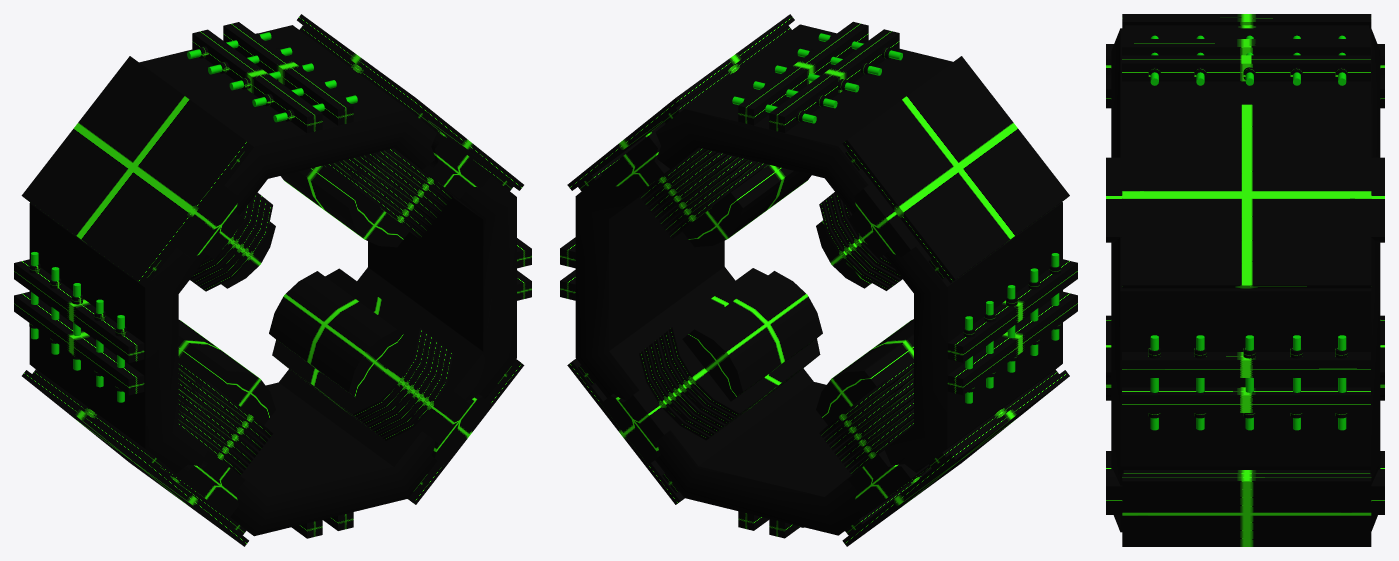
The model's file is MagnetGreenRotate.FBX.
3 renders of one model, left to right at view 1: azimuth 30°, elevation 25°; view 2: azimuth 150°, elevation 25°; view 3: azimuth 270°, elevation 25°, orthographic. The views are drawn at different scales.
Visible parts, largest first — view 1: Torus001, Box046, Box032, Box031, Box016, Box024, Box056, Box052, Box055, Box051, Box040, Box036 (+31 smaller); view 2: Torus001, Box046, Box032, Box031, Box016, Box024, Box056, Box052, Box055, Box051, Box040, Box039 (+31 smaller); view 3: Torus001, Box043, Box033, Box050, Box049, Box052, Box051, Box046, Box037, Box039, Box034, Box048 (+6 smaller).
Part boxes in pixels (x1,y1,x2,y2): Torus001: (29,25,516,536); Box046: (21,56,249,282); Box032: (269,271,409,401); Box031: (272,268,423,417); Box016: (281,165,409,247); Box024: (178,320,275,424); Box056: (14,291,144,395); Box052: (223,22,353,125); Box055: (14,259,144,362); Box051: (192,29,322,133); Box040: (22,370,248,546); Box036: (172,182,244,259); Torus001: (575,24,1062,535); Box046: (842,56,1069,283); Box032: (682,271,822,401); Box031: (668,268,820,416); Box016: (682,164,811,247); Box024: (816,319,913,424); Box056: (947,291,1077,395); Box052: (738,21,868,125); Box055: (947,259,1077,362); Box051: (769,29,899,132); Box040: (842,370,1069,546); Box039: (601,384,678,464); Torus001: (1111,28,1380,532); Box043: (1122,104,1371,288); Box033: (1122,473,1371,546); Box050: (1122,387,1370,412); Box049: (1122,352,1370,377); Box052: (1122,55,1370,81); Box051: (1122,39,1370,55); Box046: (1122,14,1371,28); Box037: (1106,157,1384,242); Box039: (1106,451,1384,514); Box034: (1123,470,1370,473); Box048: (1124,25,1369,28).
Bounding box in the file's own units: 23.89 × 23.87 × 13.19.
3 materials, 1 textured.
